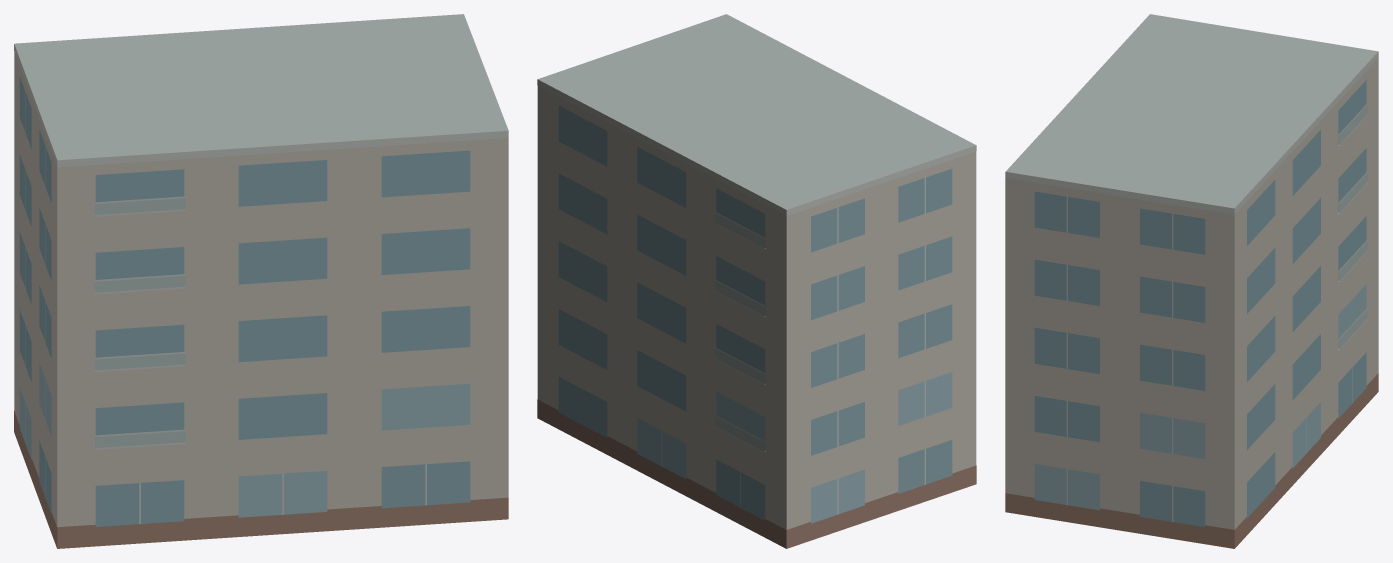
The model's file is survey-upis-32957644.glb.
The picture shows the model from 3 angles, left to right: view 1: azimuth 30°, elevation 25°; view 2: azimuth 150°, elevation 25°; view 3: azimuth 270°, elevation 25°; orthographic projection. The views are drawn at different scales.
Parts seen in each view (by area): view 1: survey-upis-32957644.tmp; view 2: survey-upis-32957644.tmp; view 3: survey-upis-32957644.tmp.
Boxes of the visible parts, bbox=[...] form: survey-upis-32957644.tmp: bbox=[14, 14, 508, 548]; survey-upis-32957644.tmp: bbox=[537, 14, 976, 548]; survey-upis-32957644.tmp: bbox=[1005, 14, 1378, 548].
Size of the model in its own units: 16.35 by 13.34 by 13.26.
